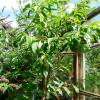Peach leaf: (45, 57, 56, 72), (70, 84, 82, 96), (60, 87, 74, 97), (36, 62, 44, 77), (31, 42, 39, 56), (83, 36, 92, 48), (38, 12, 45, 23), (27, 36, 31, 50)
